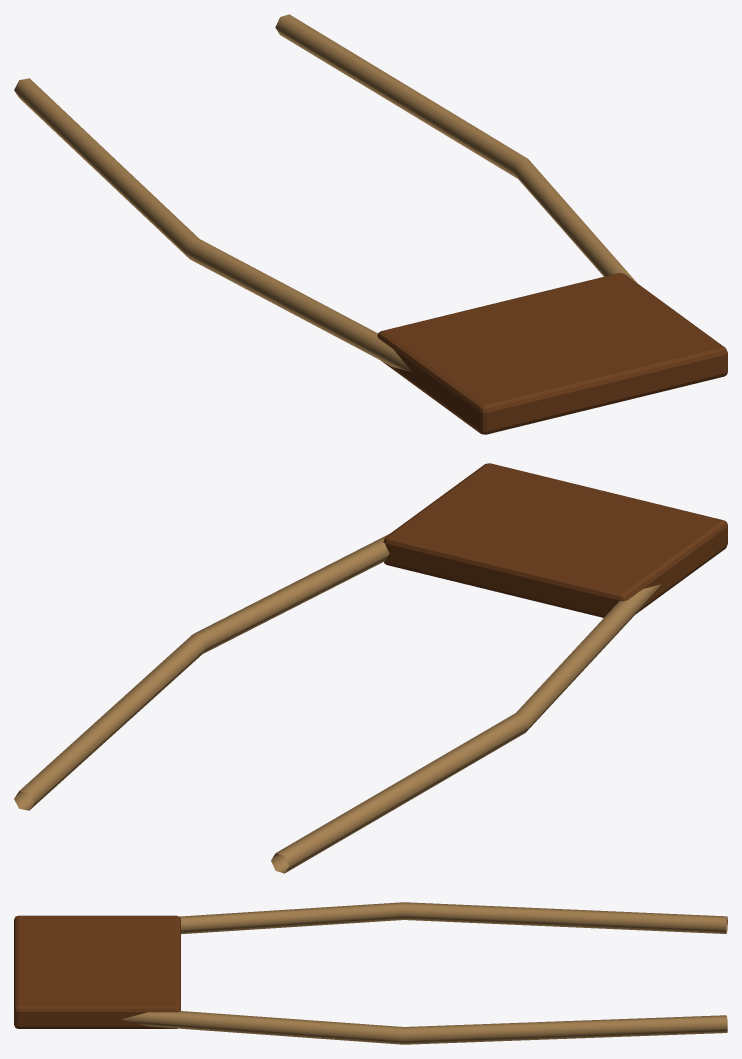
The model's file is sling_LOD2.glb.
The picture shows the model from 3 angles, top to bottom: view 1: azimuth 30°, elevation 25°; view 2: azimuth 150°, elevation 25°; view 3: azimuth 270°, elevation 25°; orthographic projection. The views are drawn at different scales.
Visible parts, largest first — view 1: LOD2_Pouch, LOD2_Cords, LOD2_Cords.001; view 2: LOD2_Pouch, LOD2_Cords, LOD2_Cords.001; view 3: LOD2_Pouch, LOD2_Cords.001, LOD2_Cords.
Part boxes in pixels (left/top/right/bottom): LOD2_Pouch: left=377, top=273, right=727, bottom=434; LOD2_Cords: left=14, top=78, right=411, bottom=371; LOD2_Cords.001: left=275, top=14, right=636, bottom=282; LOD2_Pouch: left=383, top=463, right=727, bottom=617; LOD2_Cords: left=271, top=584, right=660, bottom=873; LOD2_Cords.001: left=14, top=534, right=389, bottom=810; LOD2_Pouch: left=14, top=915, right=180, bottom=1028; LOD2_Cords.001: left=121, top=1011, right=727, bottom=1044; LOD2_Cords: left=180, top=902, right=727, bottom=934.
Size of the model in its own units: 0.562 by 0.045 by 1.28.
